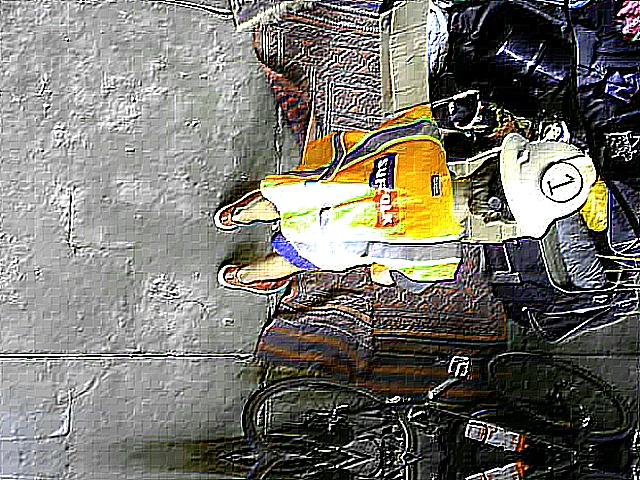one: (542, 162, 583, 203)
